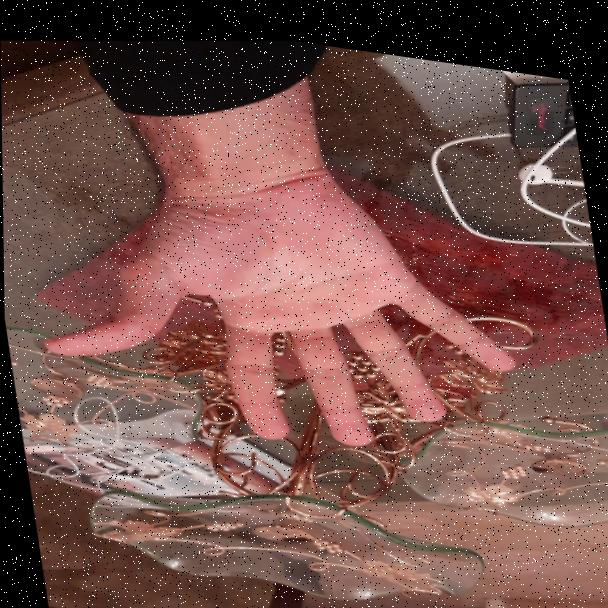five: (12, 123, 534, 498)
